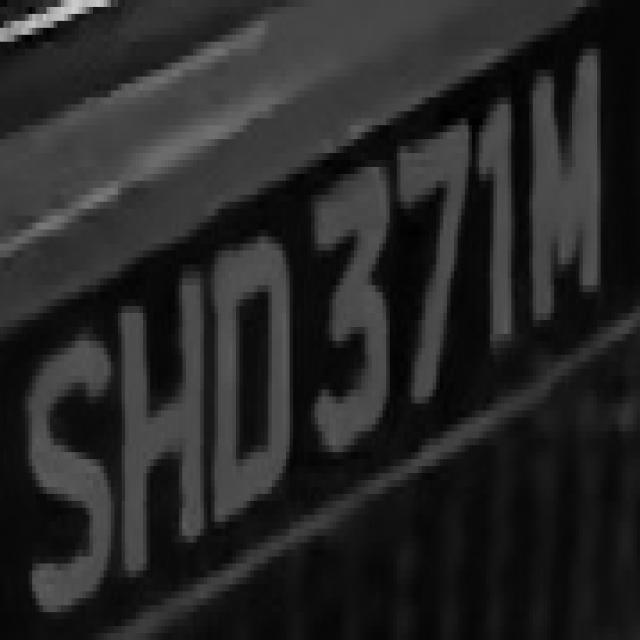1: (454, 90, 526, 369)
3: (300, 167, 408, 480)
7: (382, 104, 468, 438)
D: (211, 236, 311, 528)
H: (111, 250, 222, 570)
M: (515, 42, 618, 348)
S: (14, 313, 111, 619)
